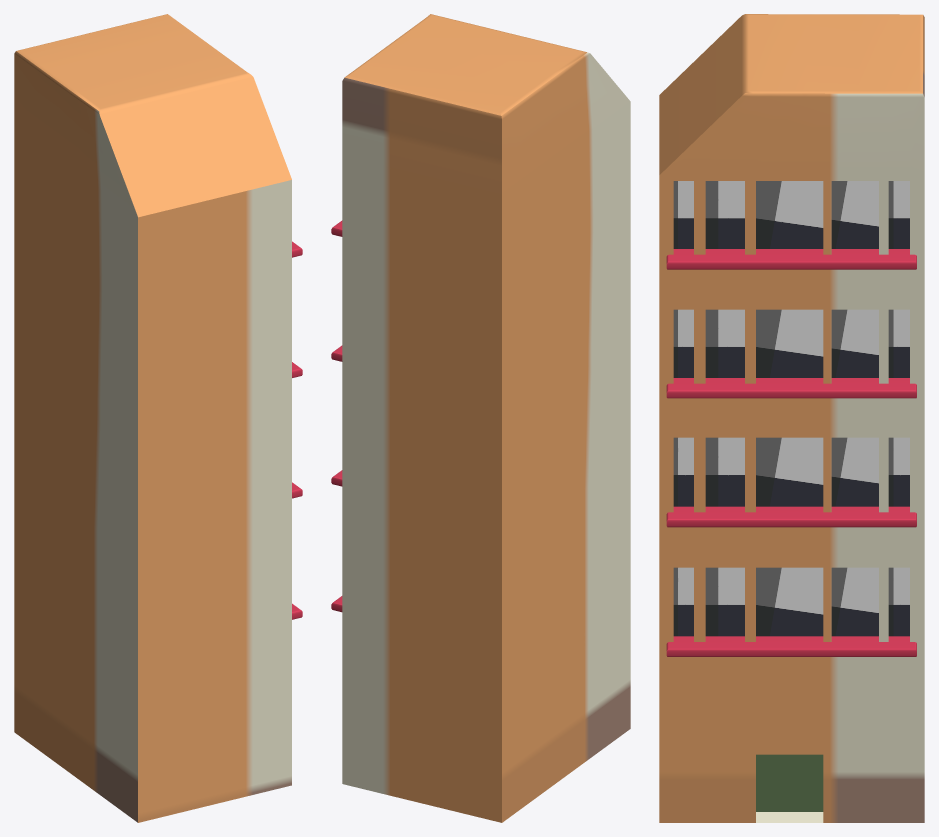
File: BuildingTall_02B.fbx
The picture shows the model from 3 angles, left to right: view 1: azimuth 30°, elevation 25°; view 2: azimuth 150°, elevation 25°; view 3: azimuth 270°, elevation 25°; orthographic projection. The views are drawn at different scales.
Visible parts, largest first — view 1: polySurface1077; view 2: polySurface1077; view 3: polySurface1077.
Boxes of the visible parts, x1,y1,x2,y2 form: polySurface1077: [14, 14, 302, 822]; polySurface1077: [331, 14, 630, 822]; polySurface1077: [659, 14, 924, 822].
Bounding box in the file's own units: 4.03 × 15.63 × 5.14.
